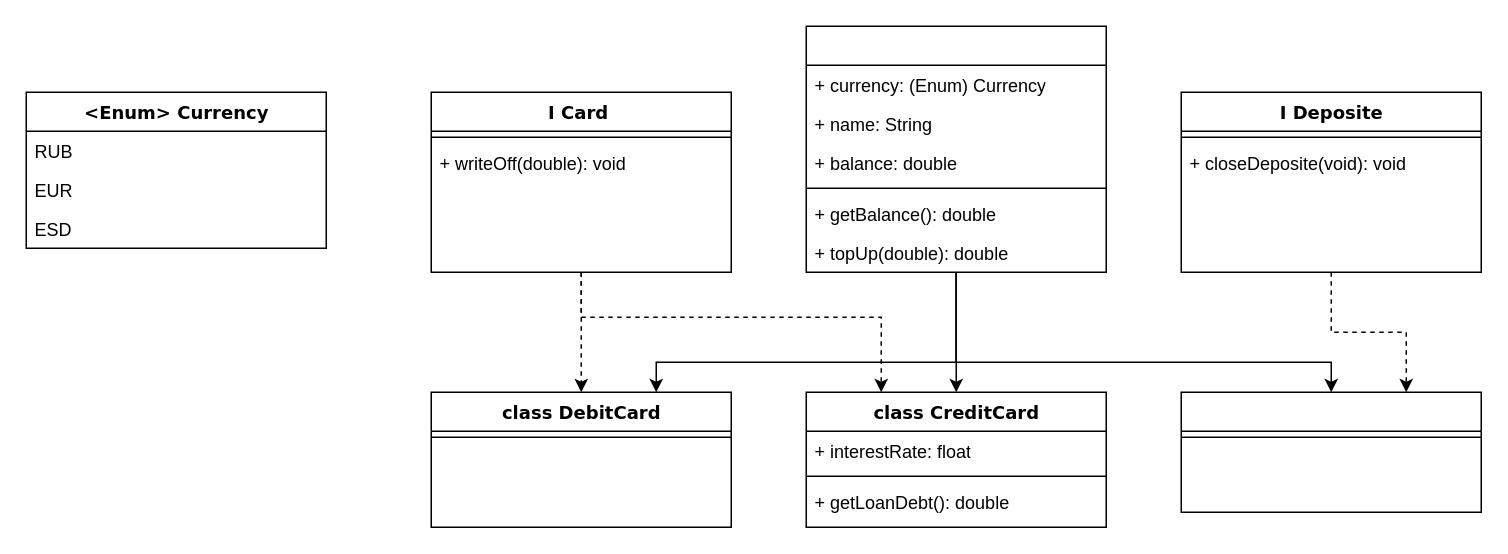
This 1508x554 diagram has some shape labels left out. The shapes that lost their labels are listed below. From the top down, each one's box as (x1, y1, x2, y2) in pixels, then its label:
(805, 25, 1106, 272): A Product
(1180, 391, 1481, 512): class Deposite
